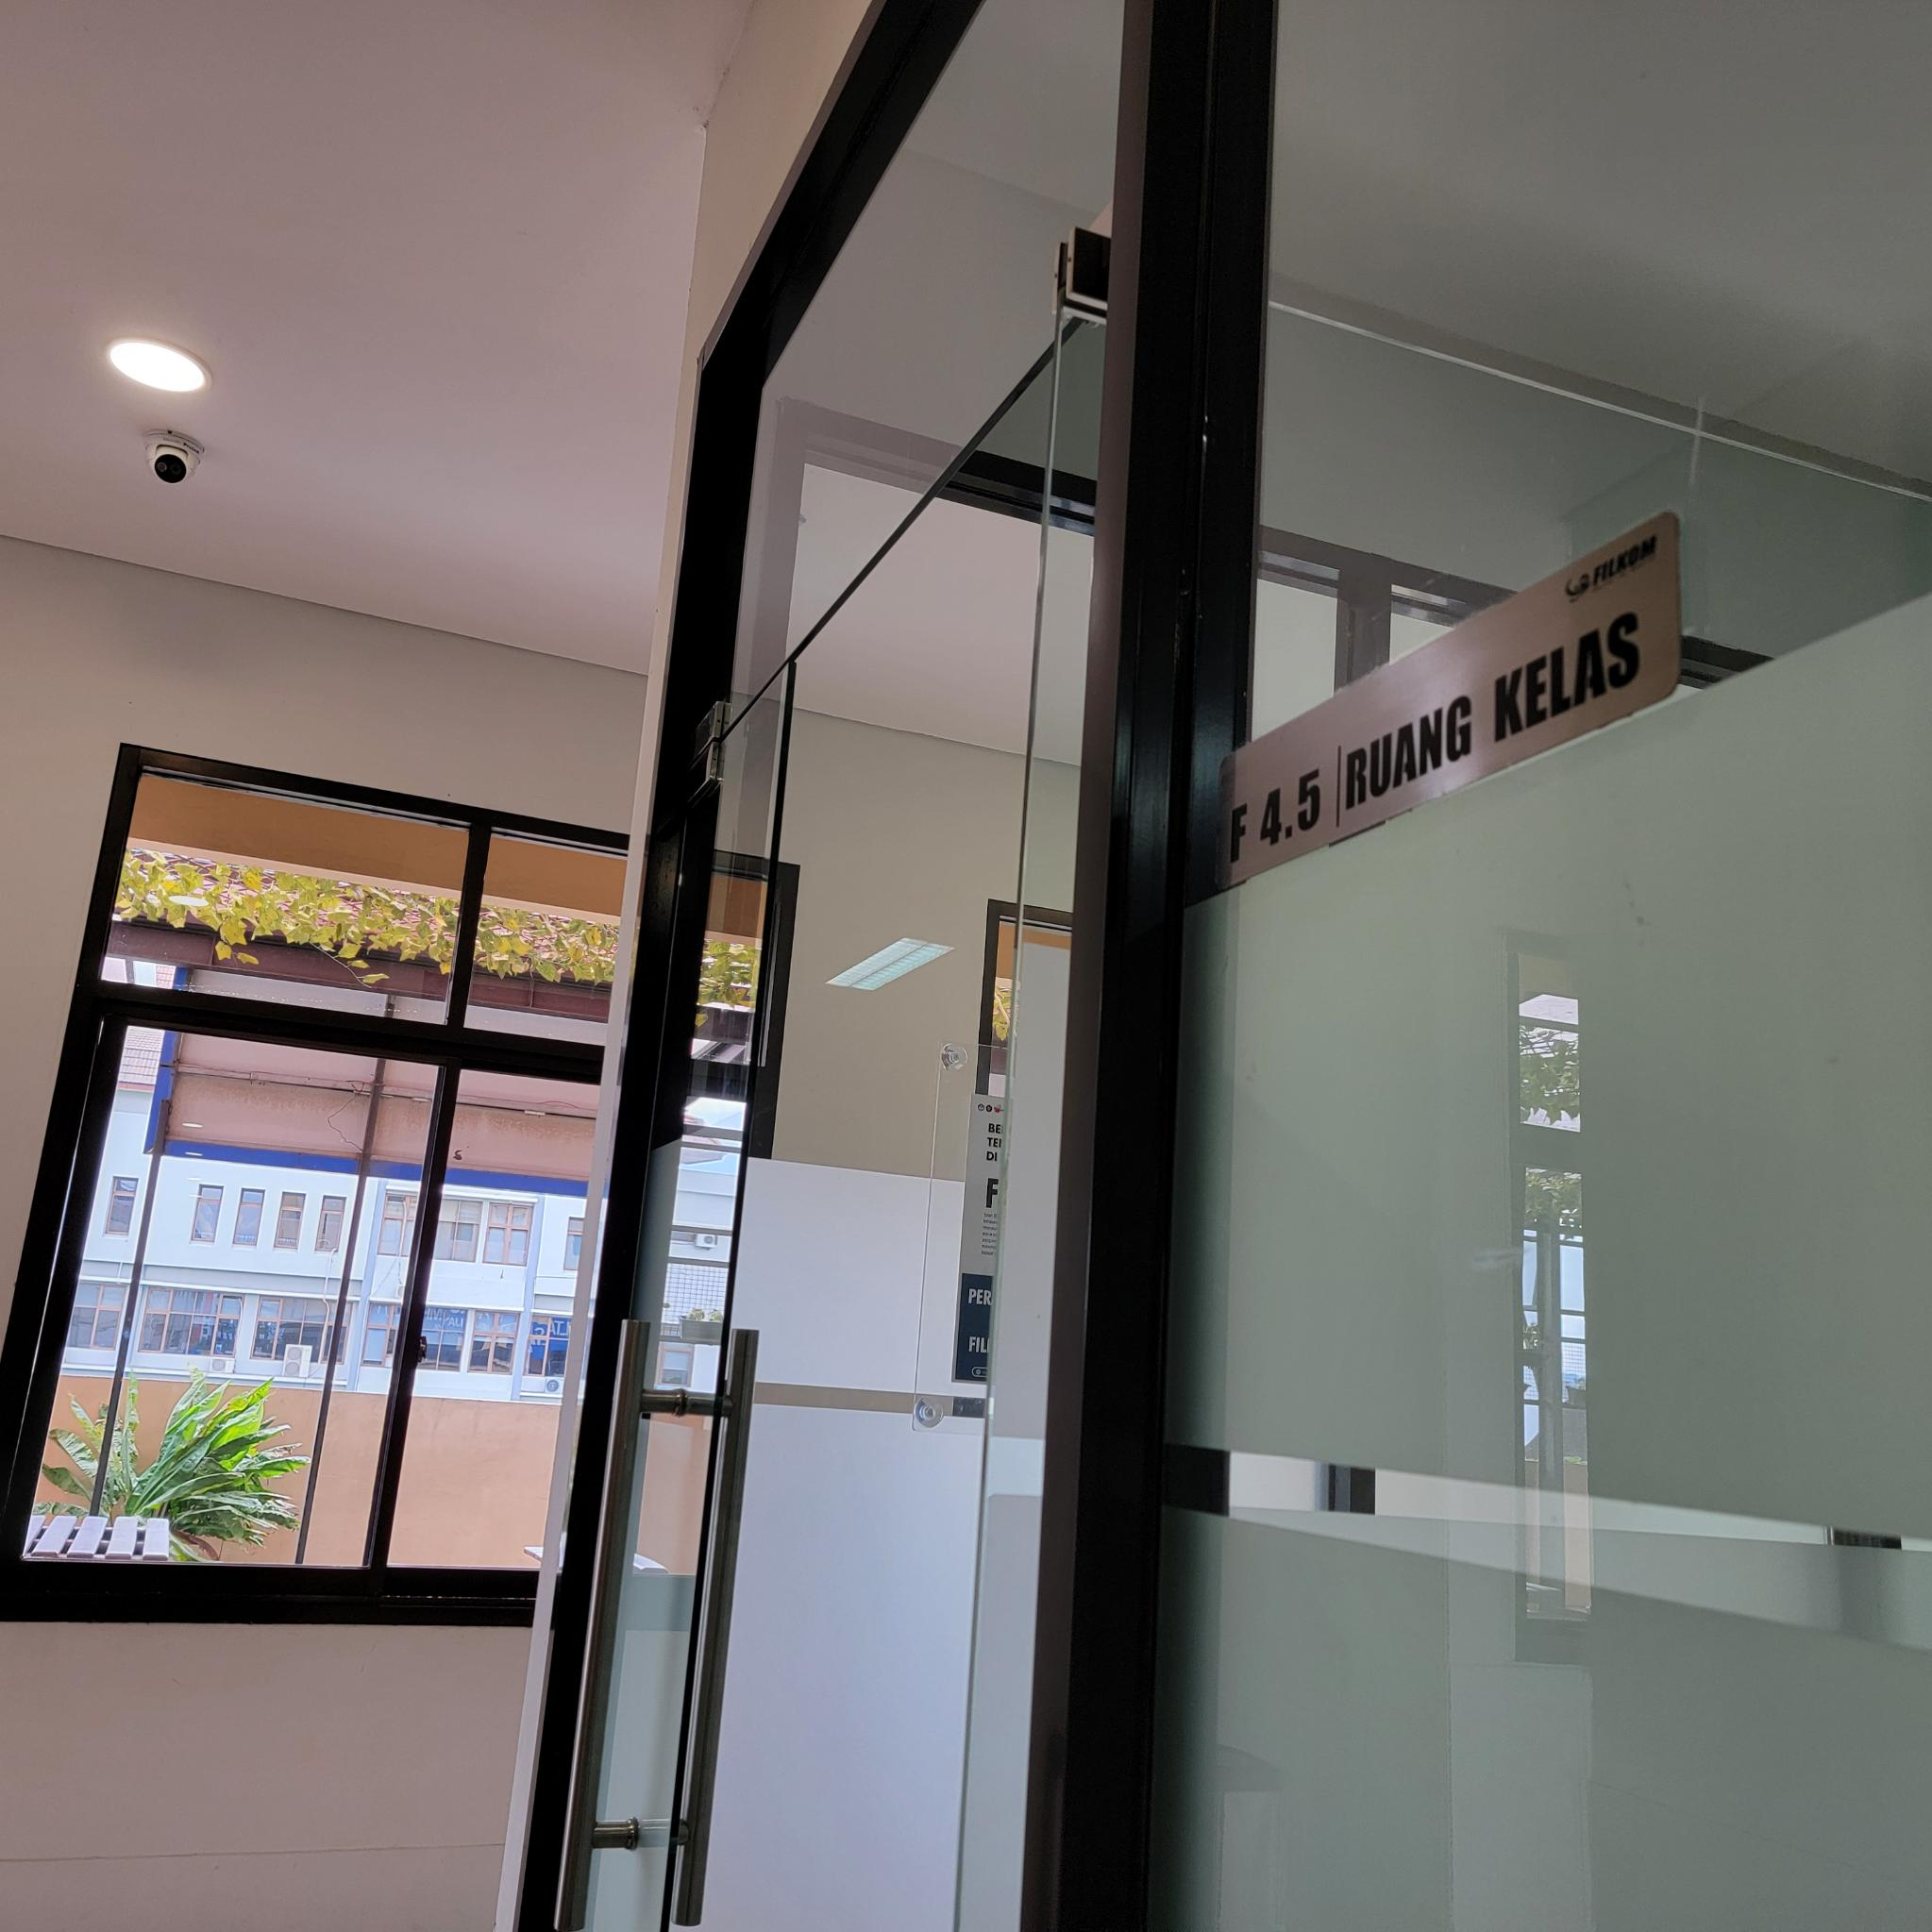plate: (1214, 511, 1683, 892)
